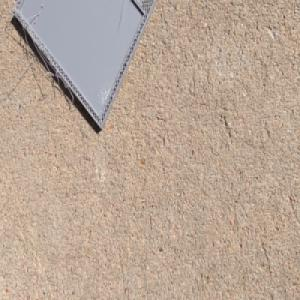PlasticPart: (11, 0, 156, 132)
